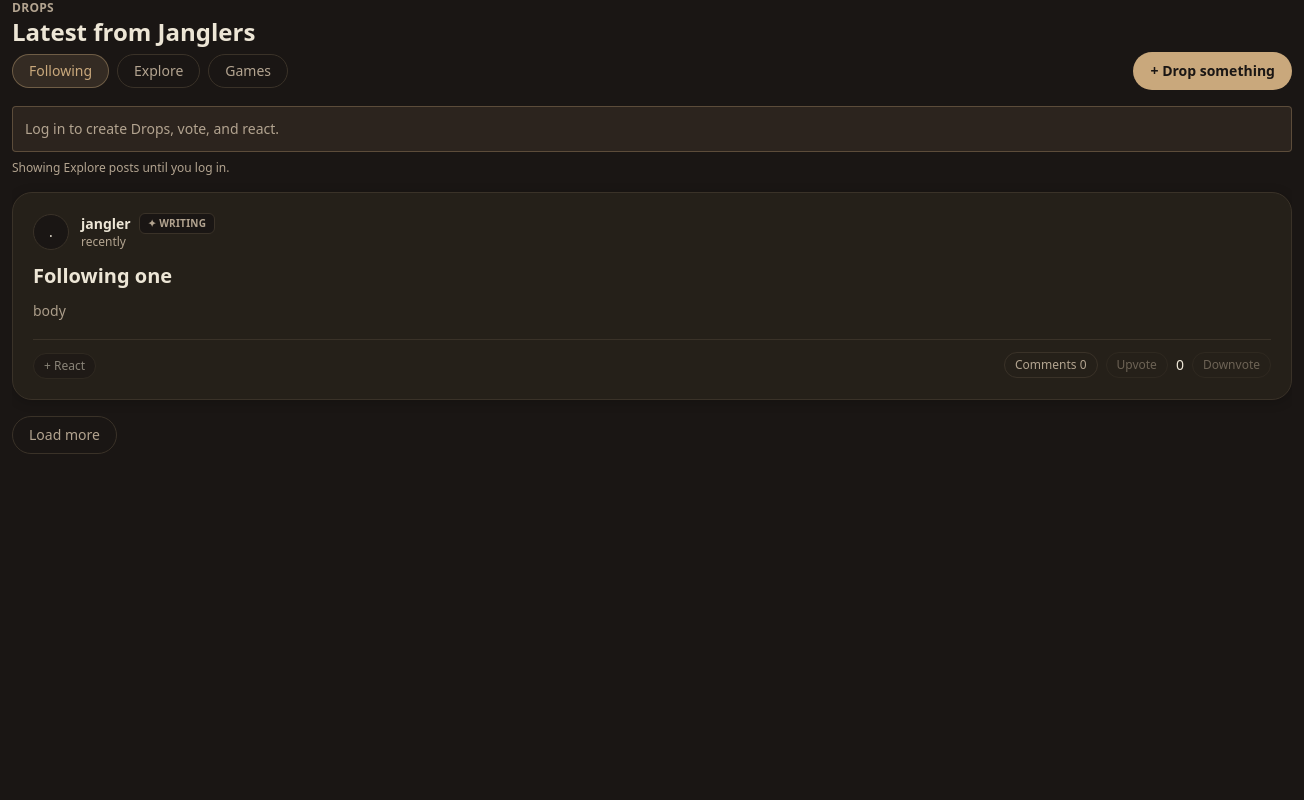
FeedPage › resets pagination and replaces list when switching tabs
(page scrolled)
Check: the link "Following one" is shown, box [33,262,172,289]
Click the button "Load more": (64, 435) [12,416,117,454]
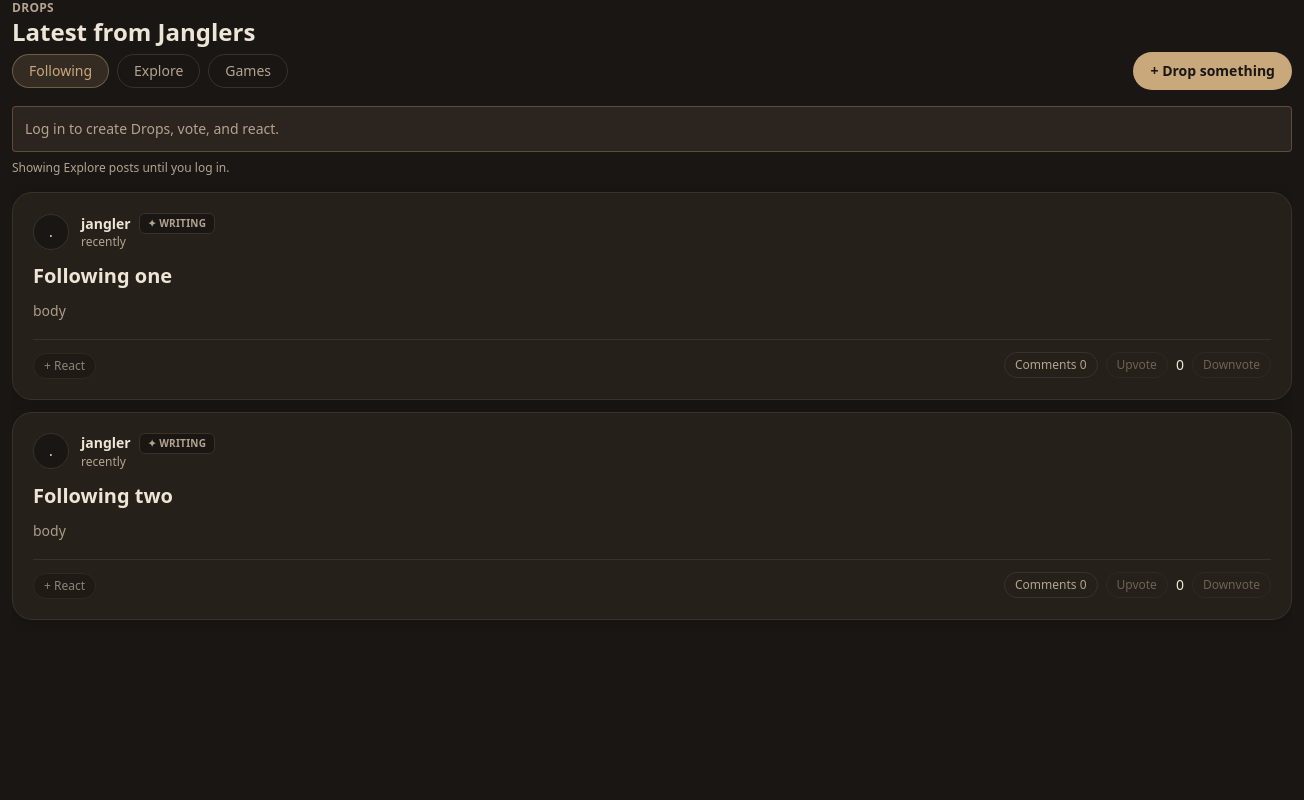
Check: the link "Following two" is shown, box [33,482,173,509]
Click the button "Explore": (159, 71) [117,54,200,88]
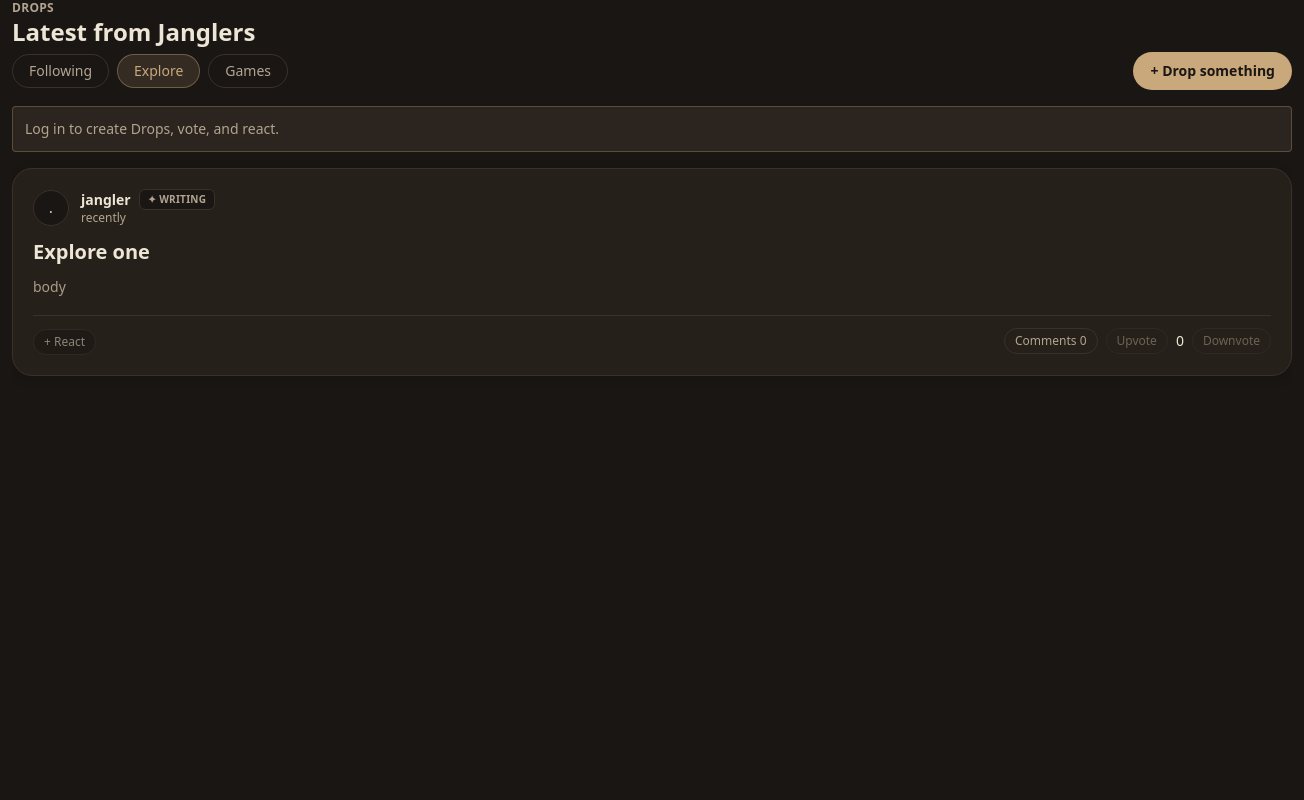
Check: the link "Explore one" is shown, box [33,238,150,265]
Check: the link "Following one" is gone
Check: the link "Following two" is gone
